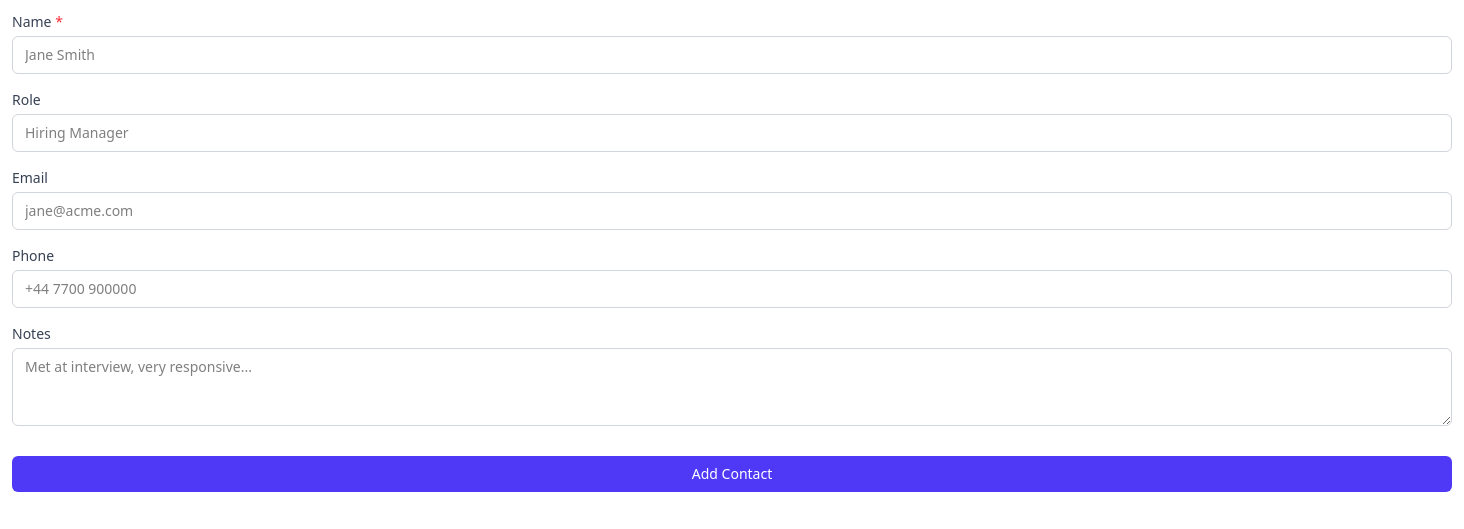
ContactForm › shows validation error when name is empty
Click the button "Add Contact" at (732, 474), box [12,456,1452,492]
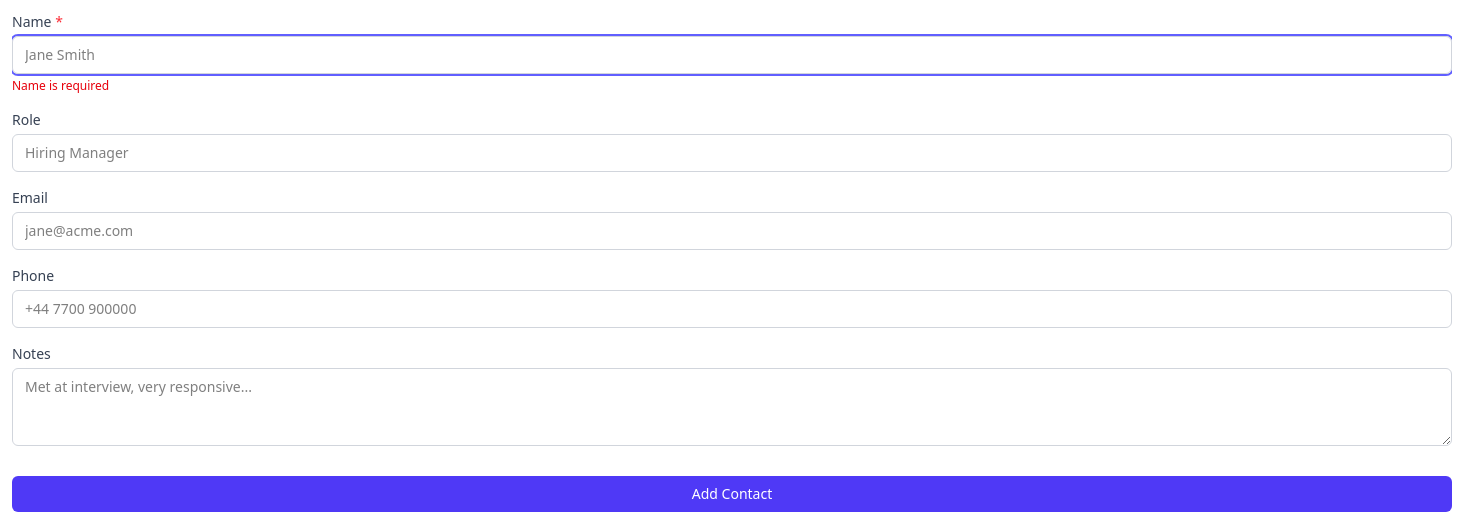
Expected: the text "Name is required" is shown, [12,77,109,94]
